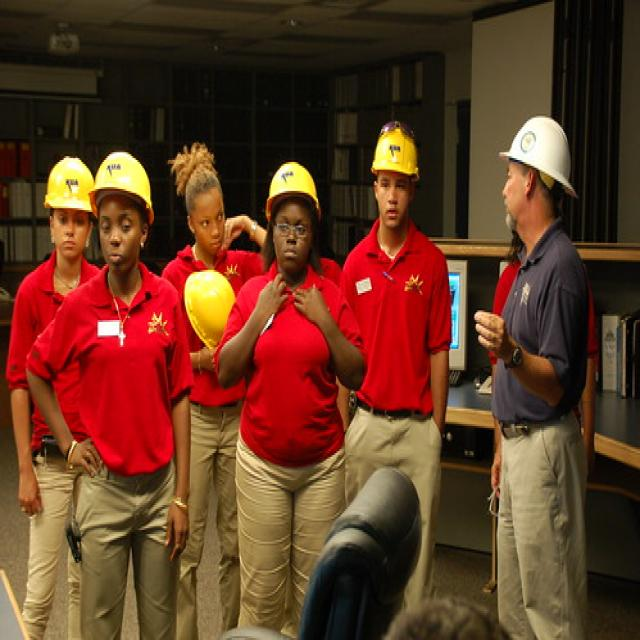Safety-Helmet: (497, 106, 582, 201), (182, 266, 239, 351), (90, 147, 155, 212), (368, 112, 423, 183), (263, 154, 323, 214), (42, 154, 95, 216)
